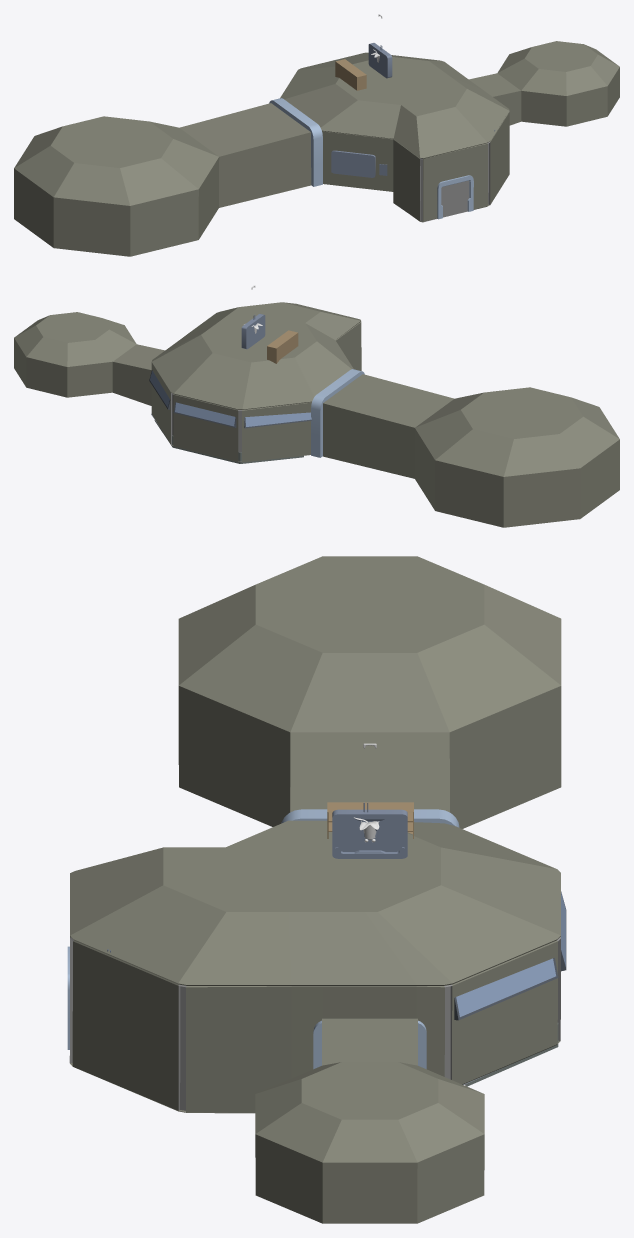
3 renders of one model, top to bottom at view 1: azimuth 30°, elevation 25°; view 2: azimuth 150°, elevation 25°; view 3: azimuth 270°, elevation 25°, orthographic. The views are drawn at different scales.
Visible parts, largest first — view 1: 牆.001, 天花板, 牆, 戰鬥出口, 訓練場門, 窗戶, 鞋櫃, 立方体; view 2: 牆.001, 天花板, 牆, 電視, 訓練場門, 鞋櫃, 立方体, 地板.001; view 3: 牆.001, 天花板, 牆, 立方体, 電視, 訓練場門, 鞋櫃.
Boxes of the visible parts, left/top/right/bottom form: 牆.001: left=14, top=41, right=619, bottom=256; 天花板: left=280, top=52, right=509, bottom=158; 牆: left=322, top=111, right=509, bottom=222; 戰鬥出口: left=437, top=175, right=473, bottom=219; 訓練場門: left=269, top=98, right=322, bottom=186; 窗戶: left=331, top=150, right=375, bottom=177; 鞋櫃: left=335, top=59, right=366, bottom=90; 立方体: left=368, top=43, right=392, bottom=78; 牆.001: left=14, top=312, right=619, bottom=527; 天花板: left=151, top=302, right=360, bottom=409; 牆: left=151, top=322, right=361, bottom=462; 電視: left=149, top=370, right=311, bottom=428; 訓練場門: left=311, top=369, right=364, bottom=457; 鞋櫃: left=267, top=330, right=298, bottom=363; 立方体: left=241, top=314, right=265, bottom=349; 地板.001: left=154, top=420, right=303, bottom=463; 牆.001: left=178, top=556, right=561, bottom=1223; 天花板: left=70, top=820, right=560, bottom=985; 牆: left=69, top=936, right=560, bottom=1113; 立方体: left=332, top=809, right=407, bottom=858; 電視: left=454, top=891, right=566, bottom=1020; 訓練場門: left=281, top=809, right=459, bottom=827; 鞋櫃: left=327, top=802, right=413, bottom=838.
Bounding box in the file's own units: 27872 × 6737 × 10485.
52 materials, 1 textured.
